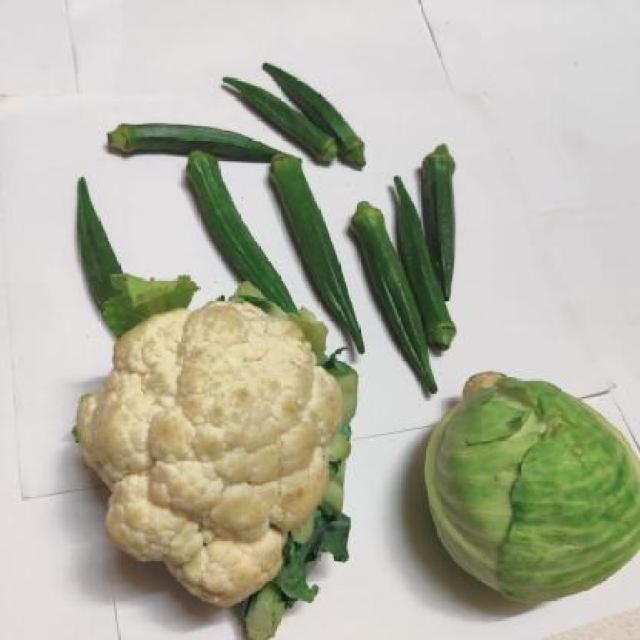Cabbage: (420, 363, 640, 609)
Cauliflower: (58, 298, 357, 630)
Lady finger: (354, 136, 472, 396), (217, 58, 385, 160), (103, 116, 306, 178), (56, 169, 130, 297)
